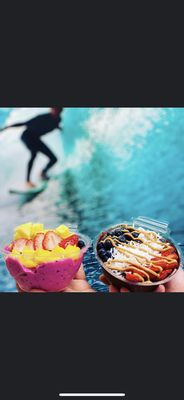sushi: (95, 224, 180, 291)
